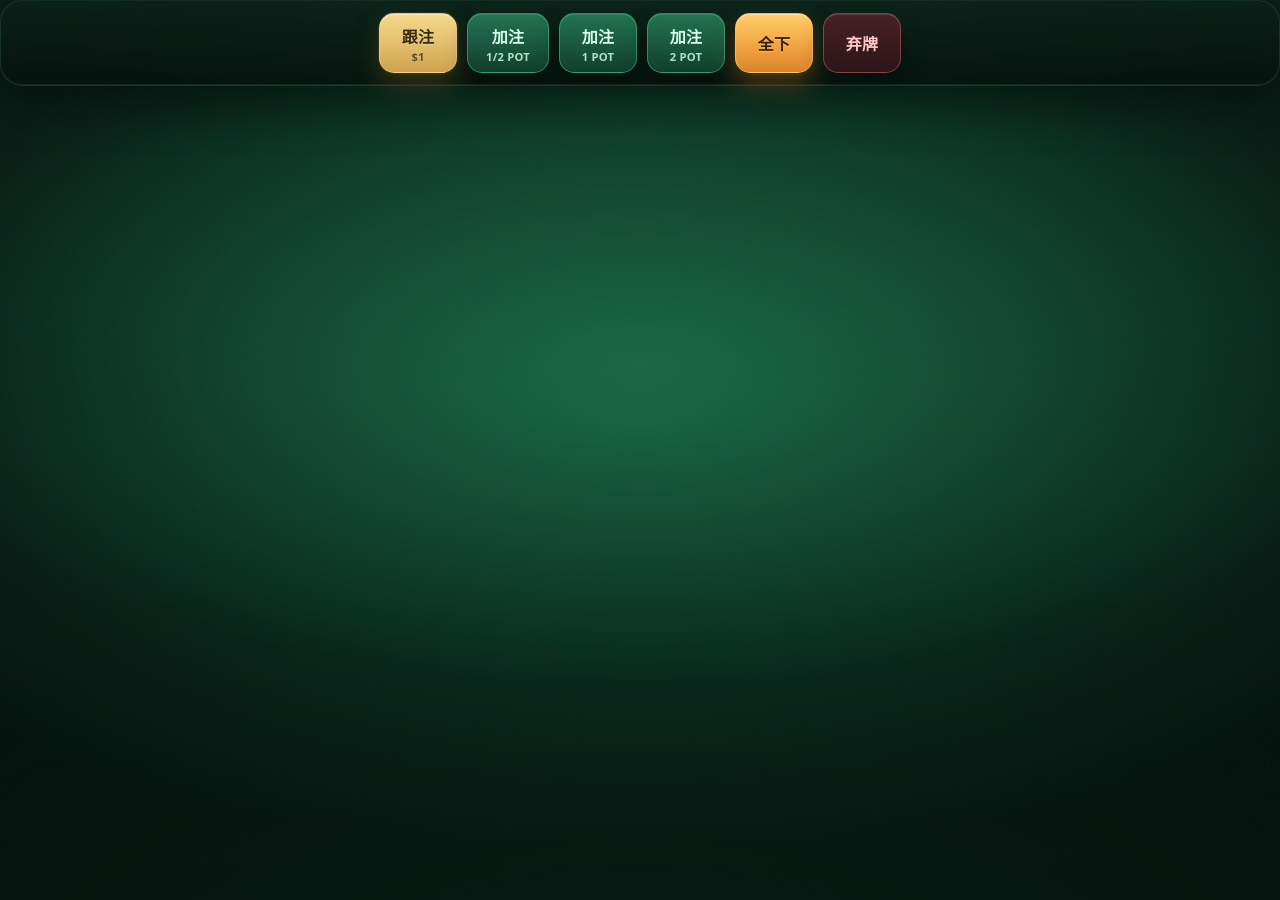
all-in with zero bankroll shows a friendly notice
Click the button with test id "all-in-action-button": click(774, 43) [735, 13, 813, 73]
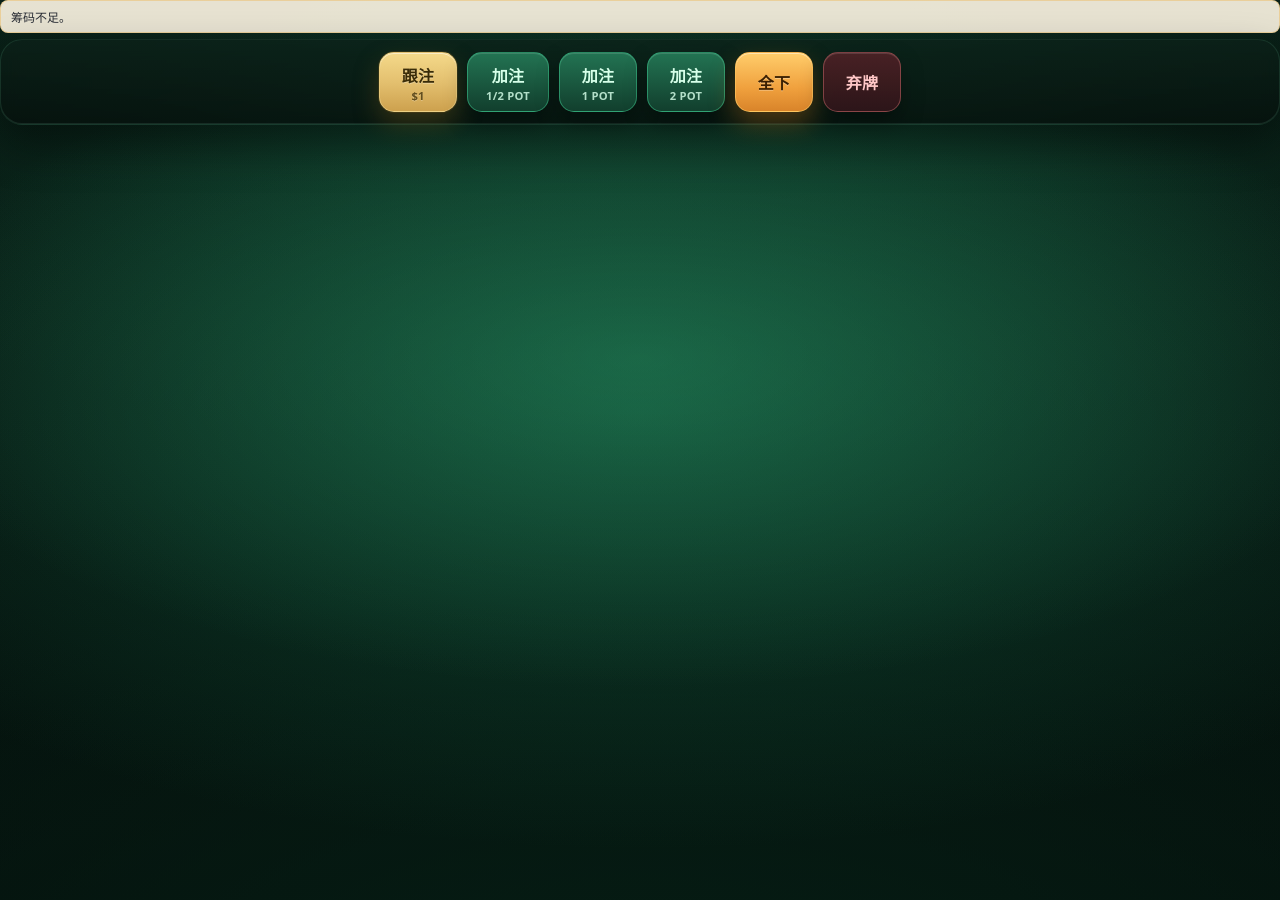
Check: the message with test id "action-notice" reads "筹码不足。", box [11, 10, 71, 25]
